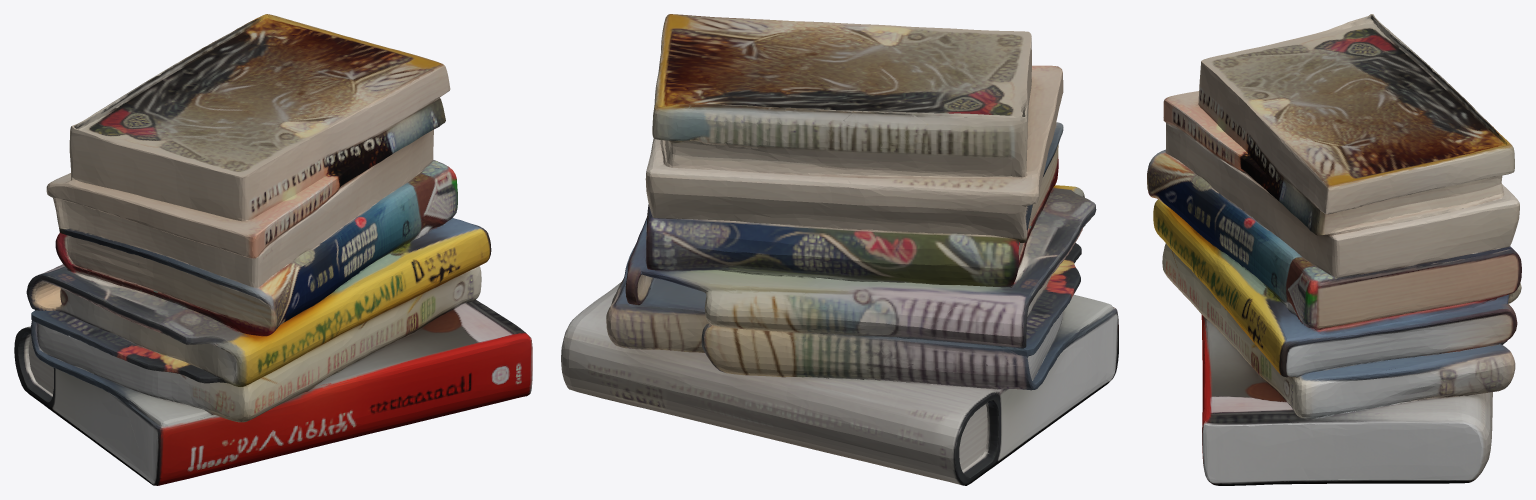
The model's file is books2_textured.obj.
3 renders of one model, left to right at view 1: azimuth 30°, elevation 25°; view 2: azimuth 150°, elevation 25°; view 3: azimuth 270°, elevation 25°, orthographic. The views are drawn at different scales.
Visible parts, largest first — view 1: obj1; view 2: obj1; view 3: obj1.
Part boxes in pixels (x1=…): obj1: x1=14, y1=14, x2=532, y2=485; obj1: x1=561, y1=14, x2=1118, y2=485; obj1: x1=1147, y1=14, x2=1521, y2=485.
Bounding box in the file's own units: 0.997 × 0.7238 × 0.8328.
1 material, 1 textured.
